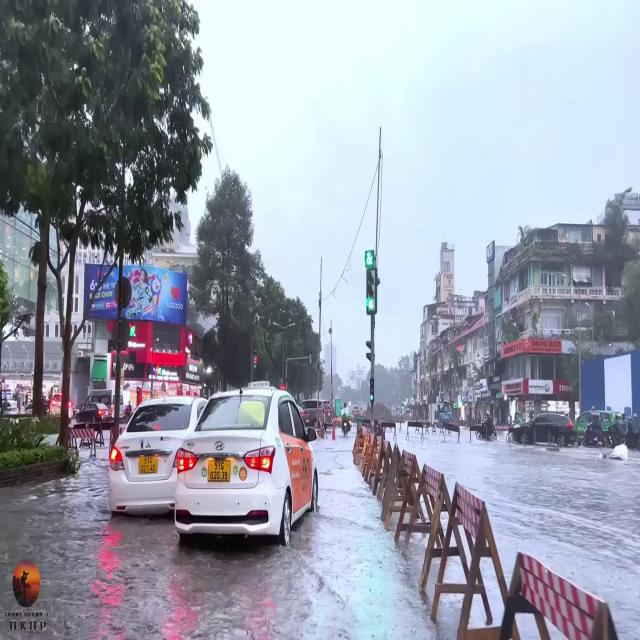bien_vang: (207, 459, 230, 482), (138, 455, 158, 473)
